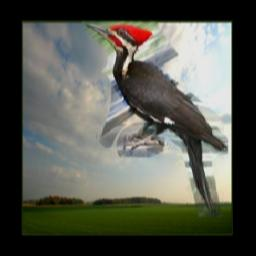Woodpecker: (83, 21, 229, 217)
